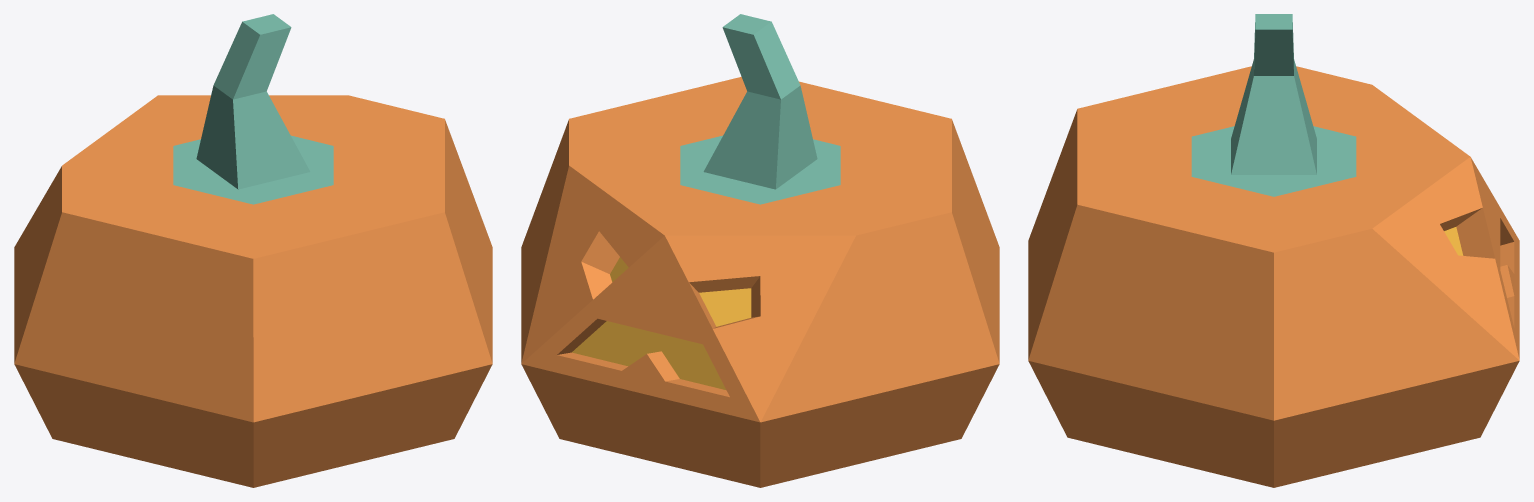
The model's file is pumpkinCarved.dae.
The picture shows the model from 3 angles, left to right: view 1: azimuth 30°, elevation 25°; view 2: azimuth 150°, elevation 25°; view 3: azimuth 270°, elevation 25°; orthographic projection. The views are drawn at different scales.
Parts seen in each view (by area): view 1: pumpkinCarved; view 2: pumpkinCarved; view 3: pumpkinCarved.
Part boxes in pixels (x1=…): pumpkinCarved: x1=14, y1=14, x2=492, y2=487; pumpkinCarved: x1=521, y1=14, x2=999, y2=487; pumpkinCarved: x1=1028, y1=14, x2=1519, y2=487.
Bounding box in the file's own units: 0.357 × 0.2583 × 0.3092.
